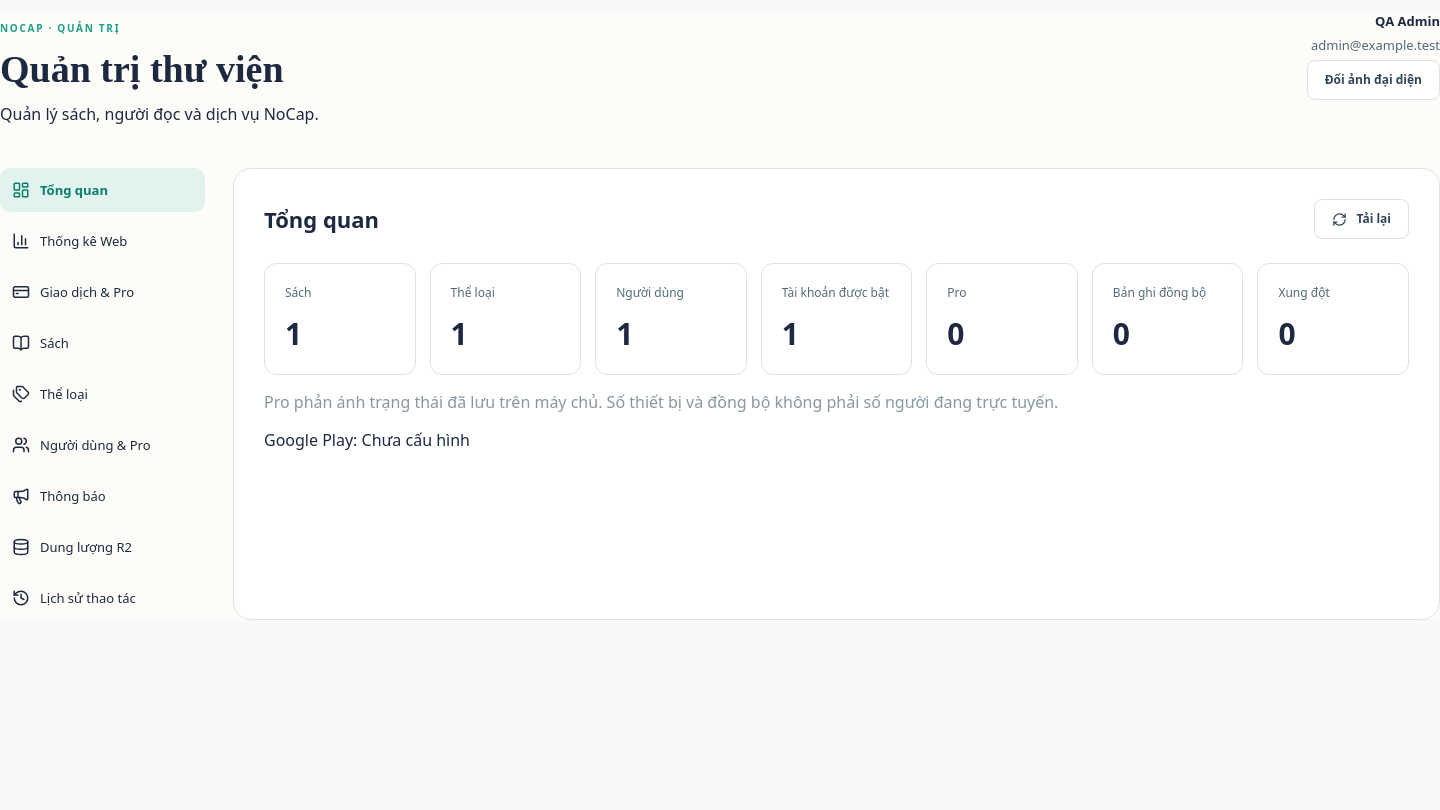
Test: administrator workspace › distinguishes enabled accounts from measured Web traffic and opens the analytics section once
Expected: the text "Tài khoản được bật" is shown, [782,284,891,301]
Step 1. Click the button "Thống kê Web" → (102, 241), box [0,219,205,263]
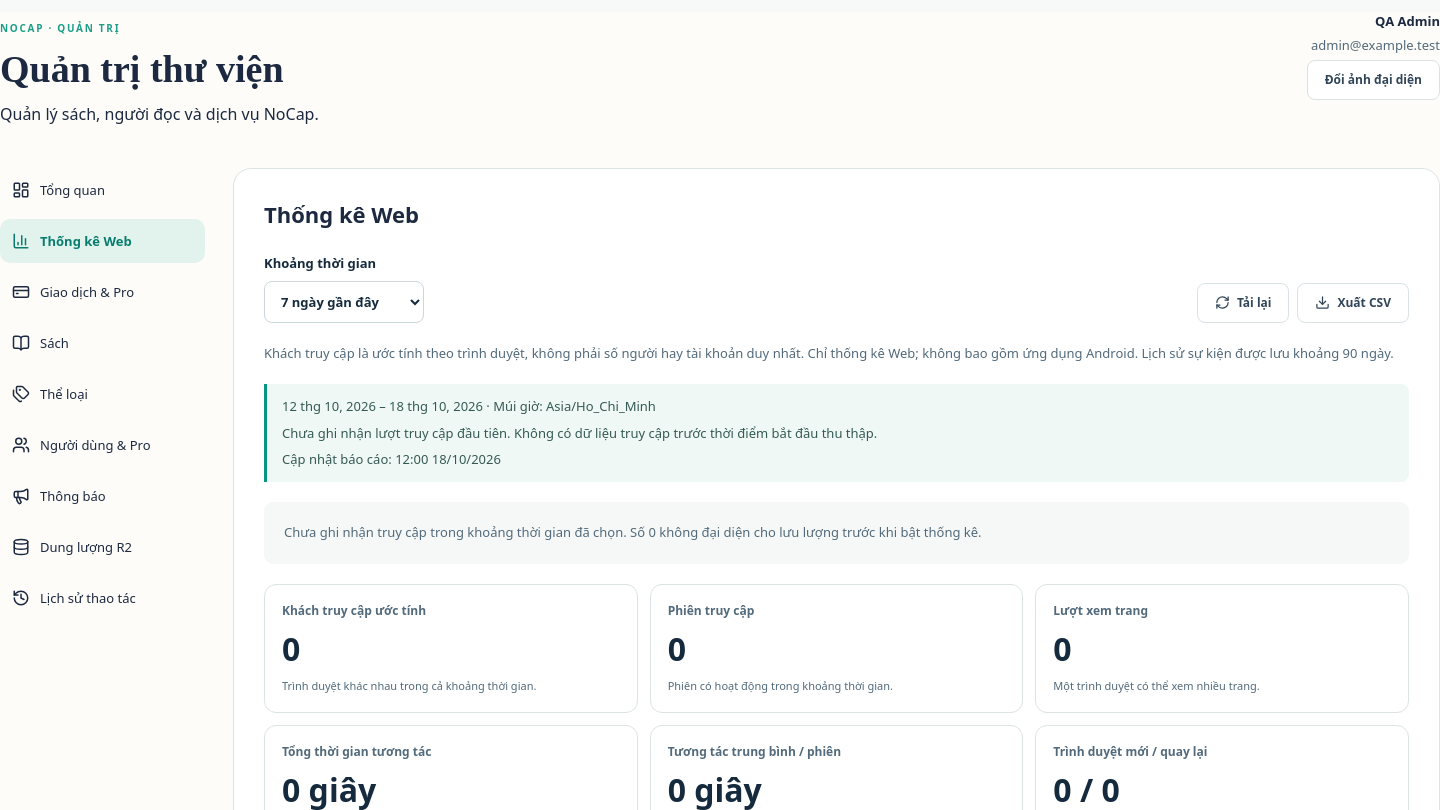
Expected: the text "Chưa ghi nhận truy cập trong khoảng thời gian đã chọn" is shown, [284,523,982,541]
Expected: the number of buttons "Tải lại" is 1, [1197,283,1290,323]
Expected: the text "Tài khoản được bật" is gone
